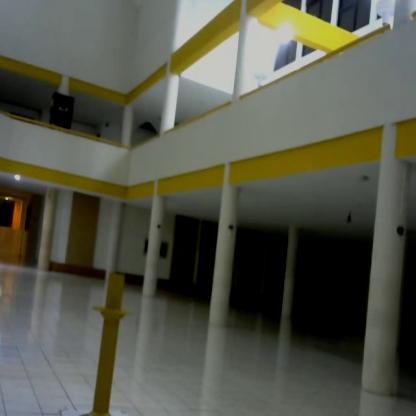pole: (81, 255, 141, 416)
